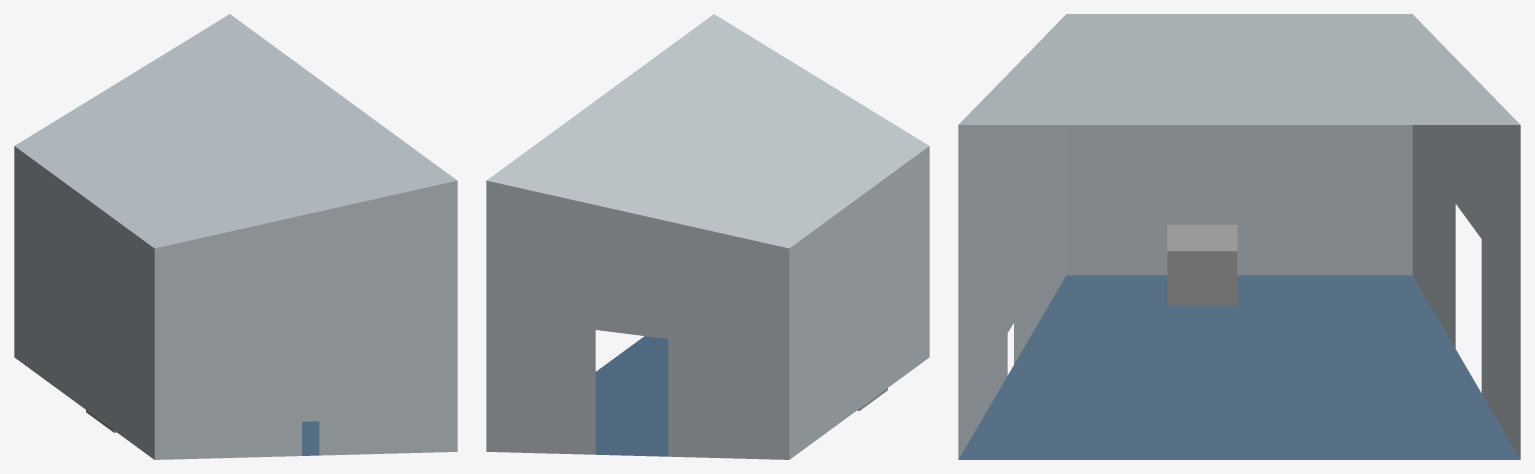
The model's file is Room_small_door.fbx.
3 views of the same model, side by side, from view 1: azimuth 30°, elevation 25°; view 2: azimuth 150°, elevation 25°; view 3: azimuth 270°, elevation 25° (orthographic). The views are drawn at different scales.
Parts seen in each view (by area): view 1: pCube1; view 2: pCube1; view 3: pCube1, pCube2.
Part boxes in pixels (x1,y1,x2,y2): pCube1: (14, 14, 457, 459); pCube1: (486, 14, 929, 459); pCube1: (958, 14, 1520, 459); pCube2: (1167, 224, 1237, 305).
Bounding box in the file's own units: 5.29 × 5.29 × 8.04.
